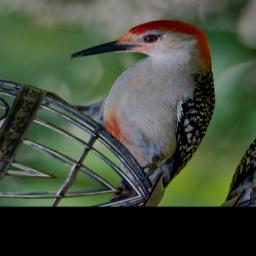Woodpecker: (6, 4, 256, 202)
